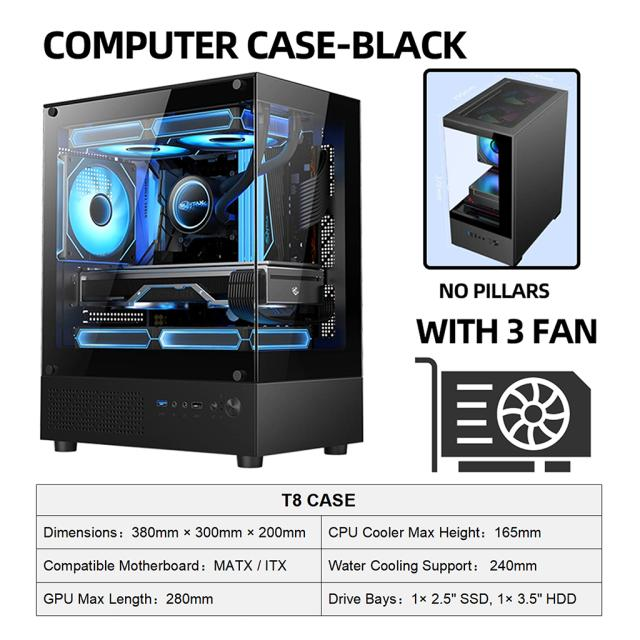electronics: (41, 74, 361, 466), (442, 79, 568, 264), (416, 357, 589, 471), (441, 372, 589, 470), (79, 264, 253, 320), (57, 153, 134, 261), (44, 30, 239, 59), (497, 376, 569, 449), (464, 79, 554, 128), (257, 264, 324, 316), (353, 30, 466, 59), (166, 175, 221, 234), (297, 148, 333, 230), (246, 30, 335, 59), (470, 168, 499, 222), (97, 144, 188, 159), (179, 131, 254, 149), (477, 136, 497, 166), (266, 136, 277, 144), (520, 462, 532, 469), (512, 462, 517, 469), (288, 309, 295, 312), (459, 464, 462, 469), (128, 257, 130, 259), (219, 192, 221, 194), (488, 217, 489, 220)
